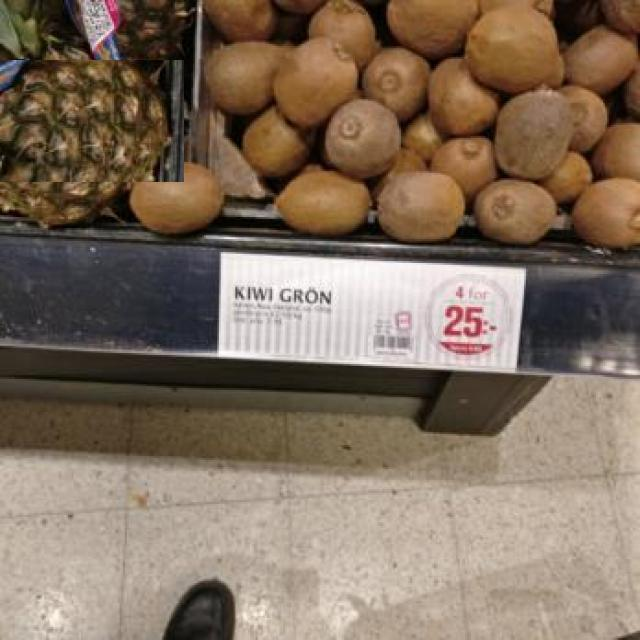Pineapple: (0, 59, 184, 182)
